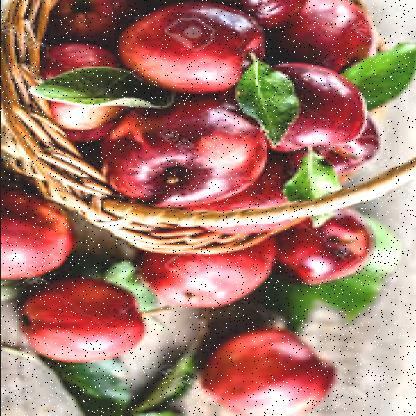apple: (114, 97, 266, 203), (205, 330, 341, 414), (132, 7, 264, 90), (25, 278, 145, 366), (142, 236, 280, 310), (266, 67, 366, 148), (2, 187, 84, 275), (43, 45, 121, 135), (287, 208, 375, 284), (280, 2, 378, 62)
